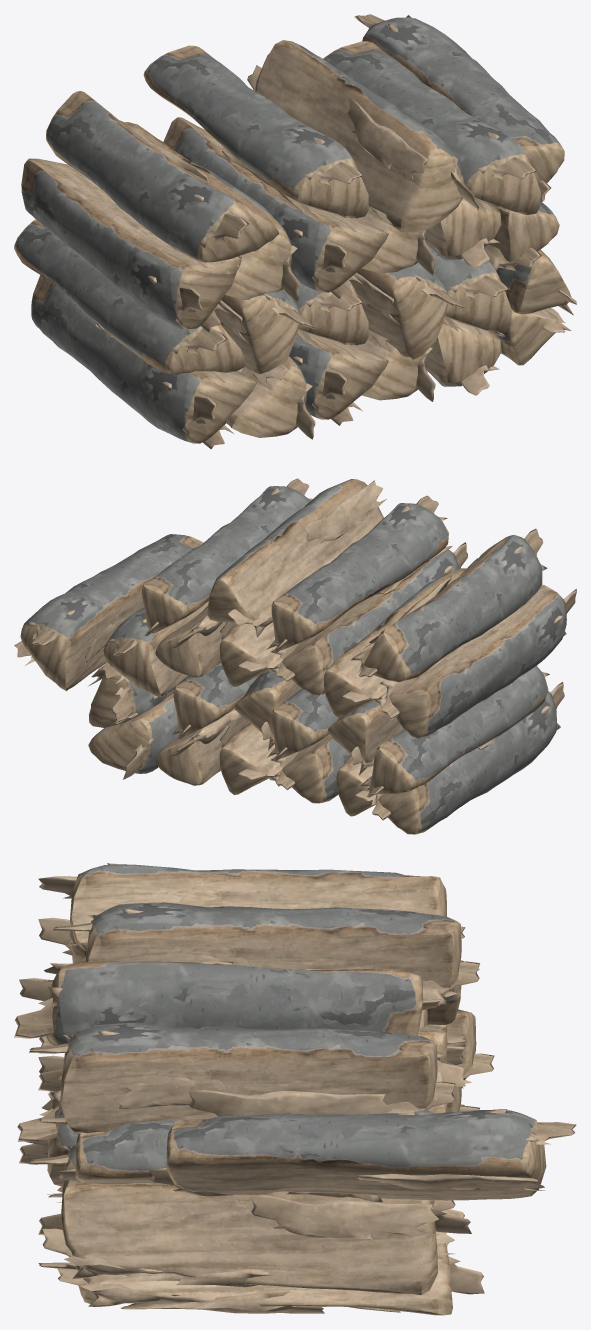
The picture shows the model from 3 angles, top to bottom: view 1: azimuth 30°, elevation 25°; view 2: azimuth 150°, elevation 25°; view 3: azimuth 270°, elevation 25°; orthographic projection. The views are drawn at different scales.
Parts seen in each view (by area): view 1: SM_Chopped_Ash_Log_Pile_01_LOD0; view 2: SM_Chopped_Ash_Log_Pile_01_LOD0; view 3: SM_Chopped_Ash_Log_Pile_01_LOD0.
Boxes of the visible parts, x1,y1,x2,y2 form: SM_Chopped_Ash_Log_Pile_01_LOD0: (14, 14, 576, 449); SM_Chopped_Ash_Log_Pile_01_LOD0: (14, 478, 576, 834); SM_Chopped_Ash_Log_Pile_01_LOD0: (14, 863, 576, 1315).
Bounding box in the file's own units: 1.25 × 0.6988 × 1.16.
Materials: 1 (1 with a texture image).
